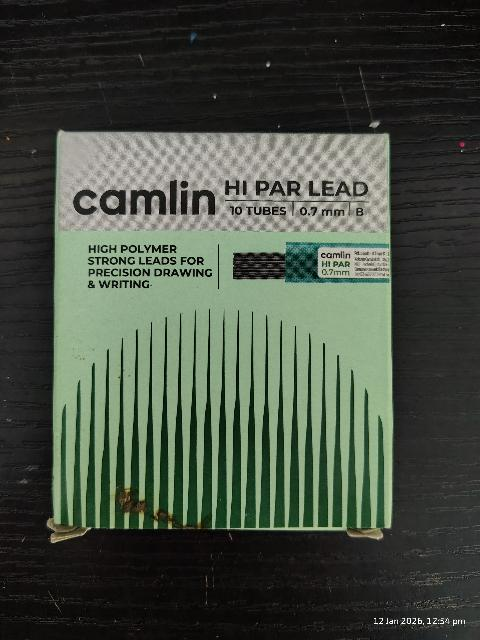camlin lids: (56, 130, 392, 532)
